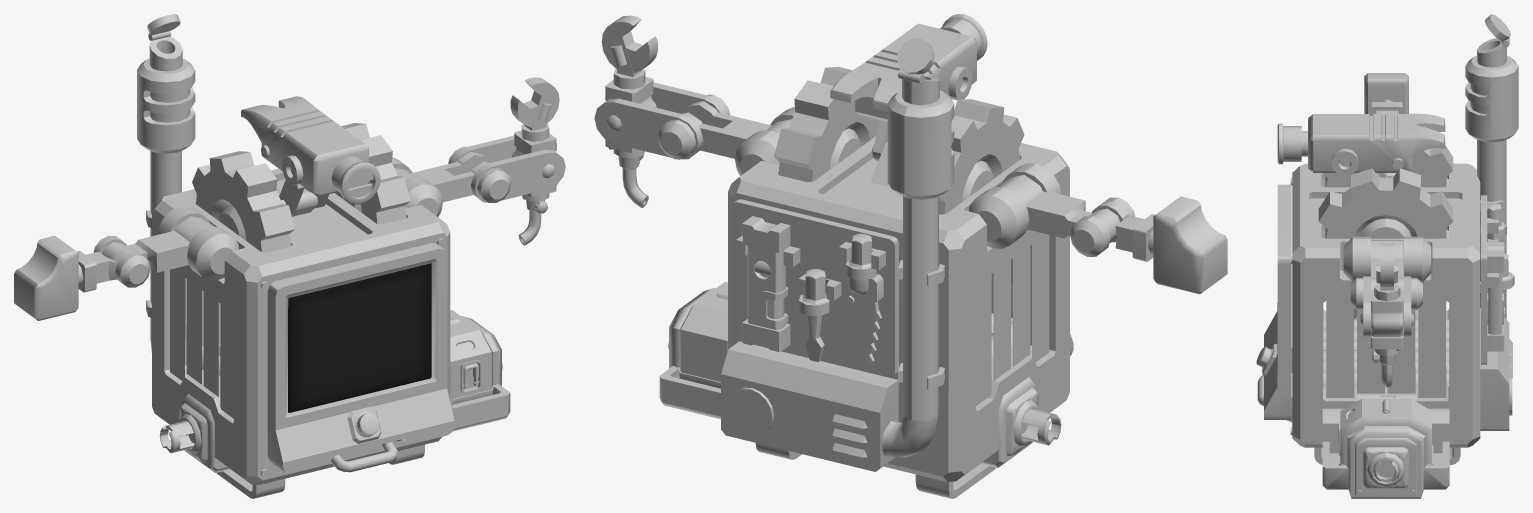
The model's file is char_craftbot_pose1.dae.
3 renders of one model, left to right at view 1: azimuth 30°, elevation 25°; view 2: azimuth 150°, elevation 25°; view 3: azimuth 270°, elevation 25°, orthographic. The views are drawn at different scales.
Parts seen in each view (by area): view 1: char_craftbot_pose1; view 2: char_craftbot_pose1; view 3: char_craftbot_pose1.
Part boxes in pixels (bbox=[...]): char_craftbot_pose1: bbox=[14, 14, 565, 498]; char_craftbot_pose1: bbox=[594, 14, 1227, 498]; char_craftbot_pose1: bbox=[1256, 14, 1518, 498].
Bounding box in the file's own units: 18.3 × 13.65 × 8.58.
